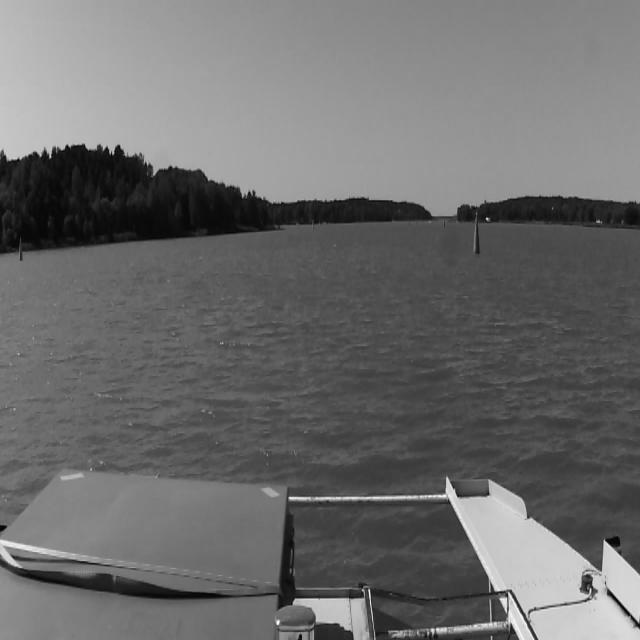buoy: (473, 217, 481, 257), (19, 239, 23, 261)
